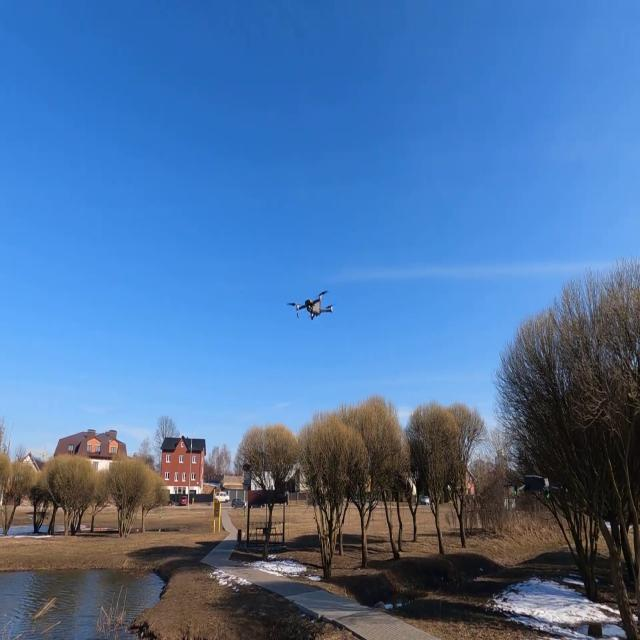Drons: (280, 286, 338, 326), (499, 470, 566, 504)
